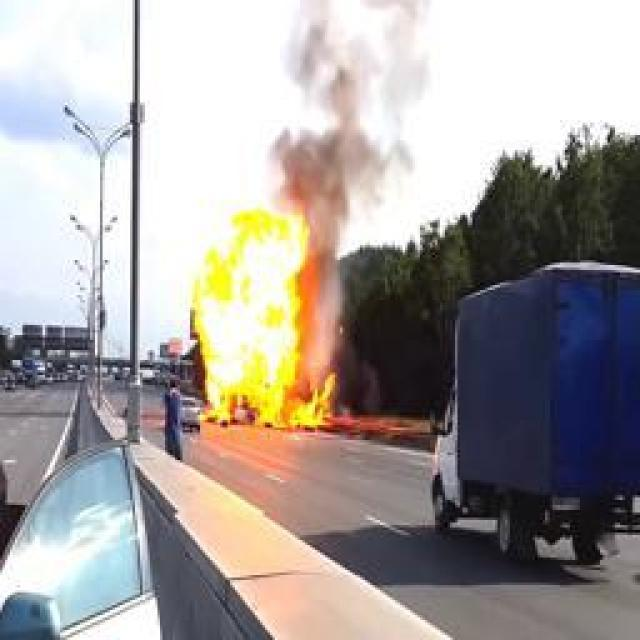Fire: (195, 206, 338, 426)
